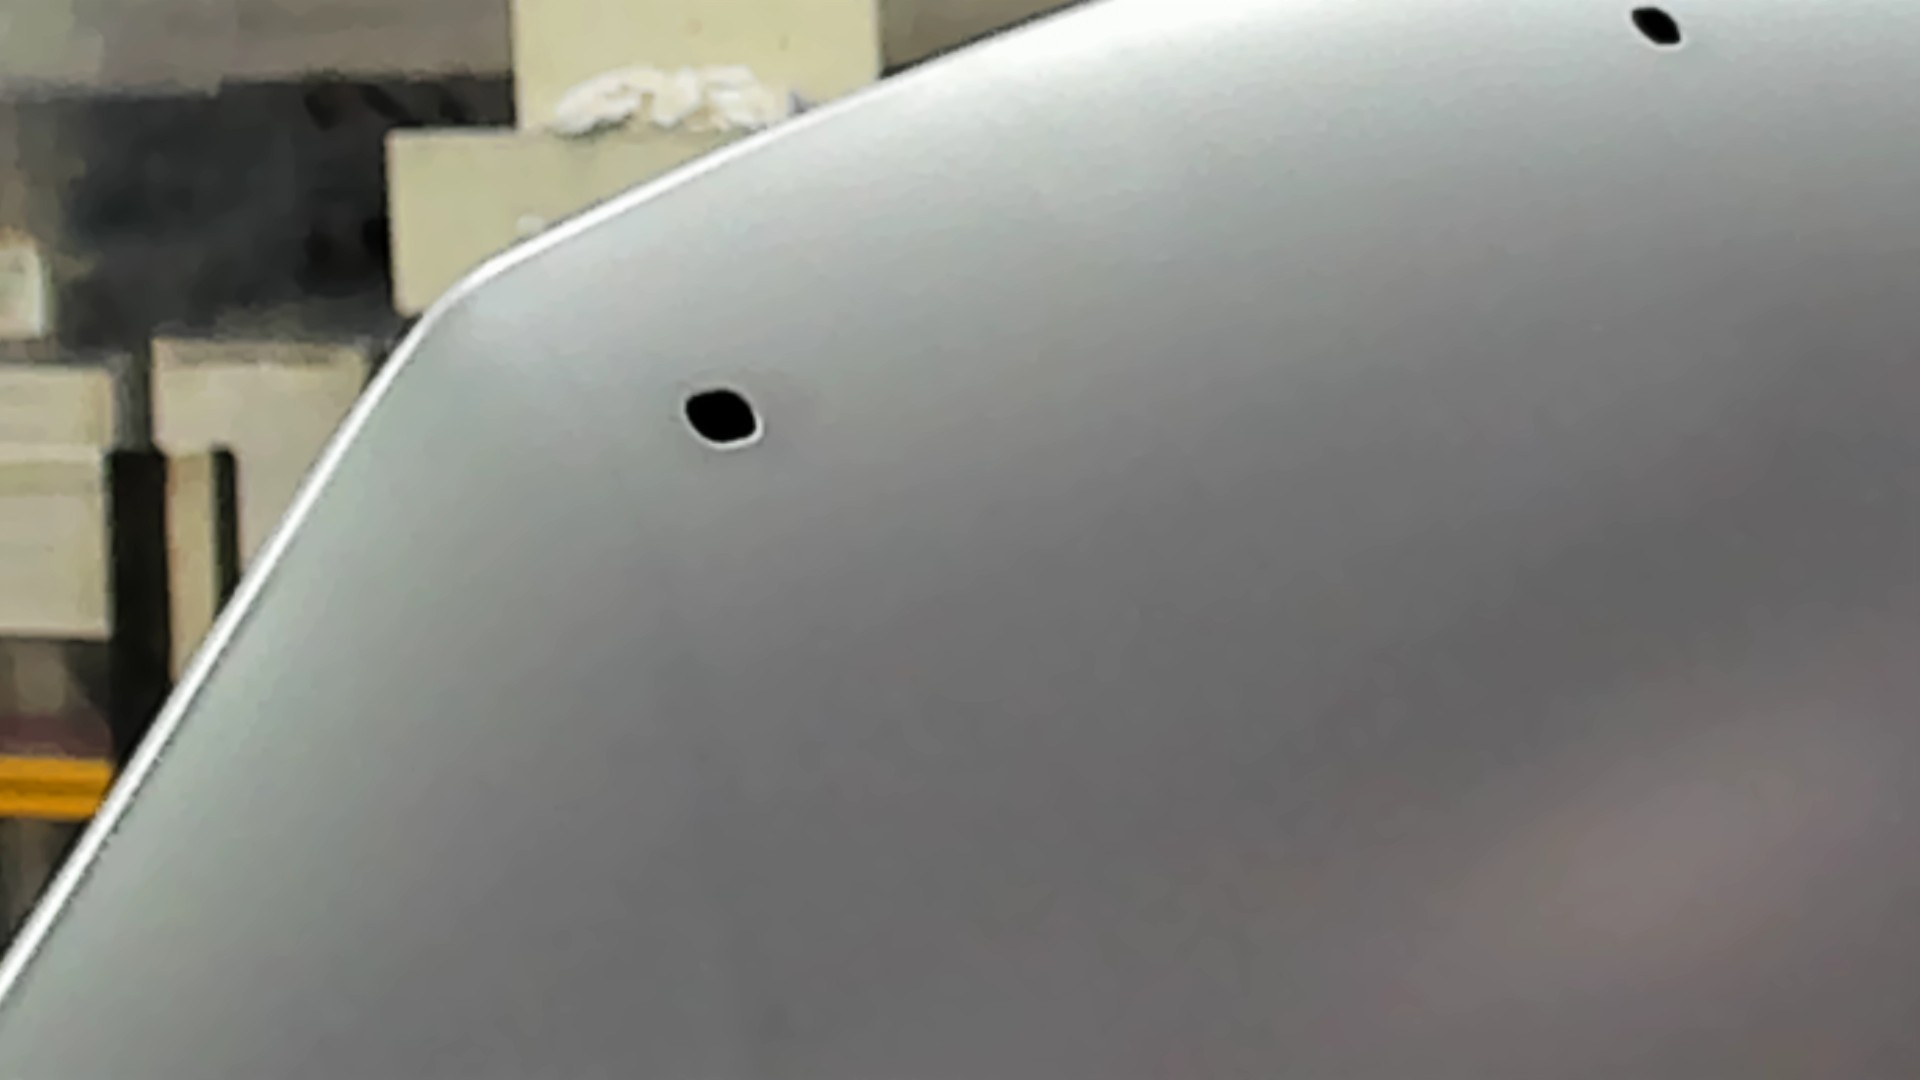amorfo: (678, 378, 766, 456), (1621, 1, 1698, 59)
capo: (891, 109, 1920, 1080)
